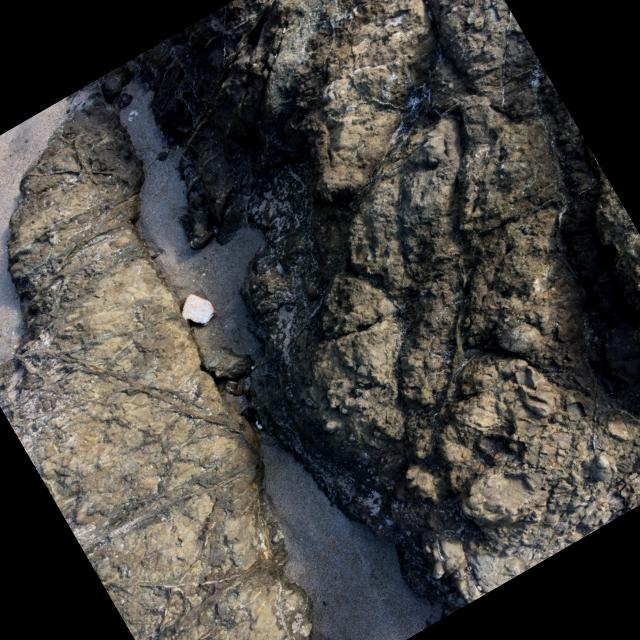Styrofoam piece: (182, 295, 215, 325)
